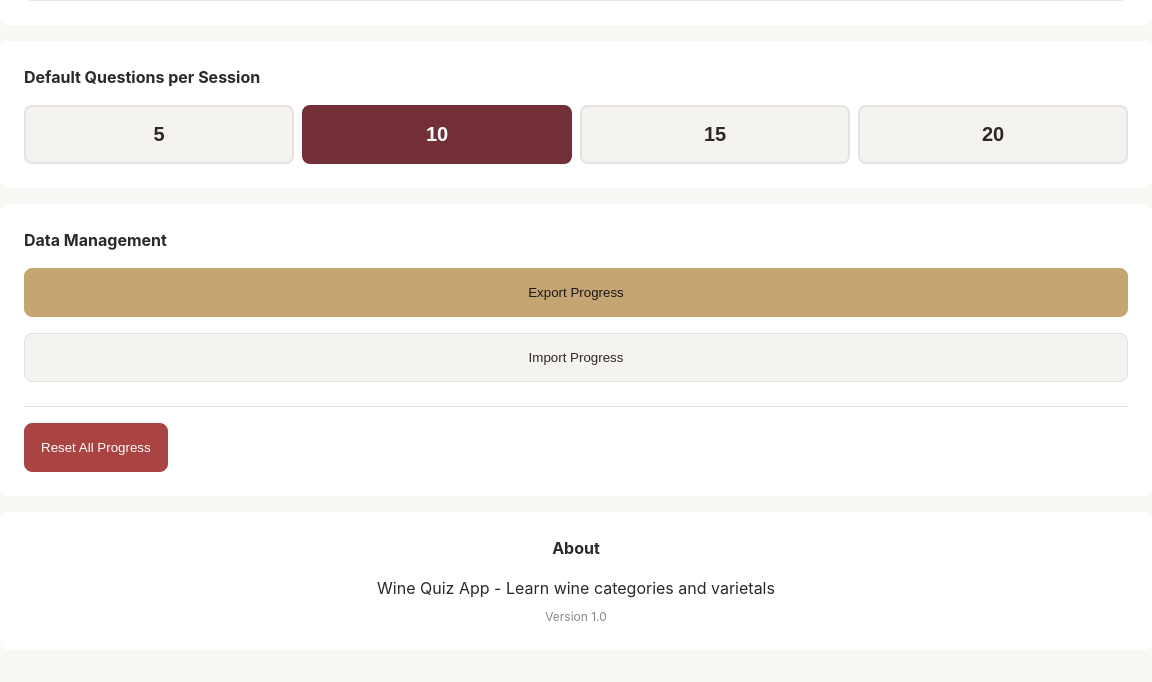
Scenario: Settings › requires confirmation before resetting progress
(page scrolled)
Click the button "Reset All Progress".
click(96, 448)  # box [24,423,168,472]
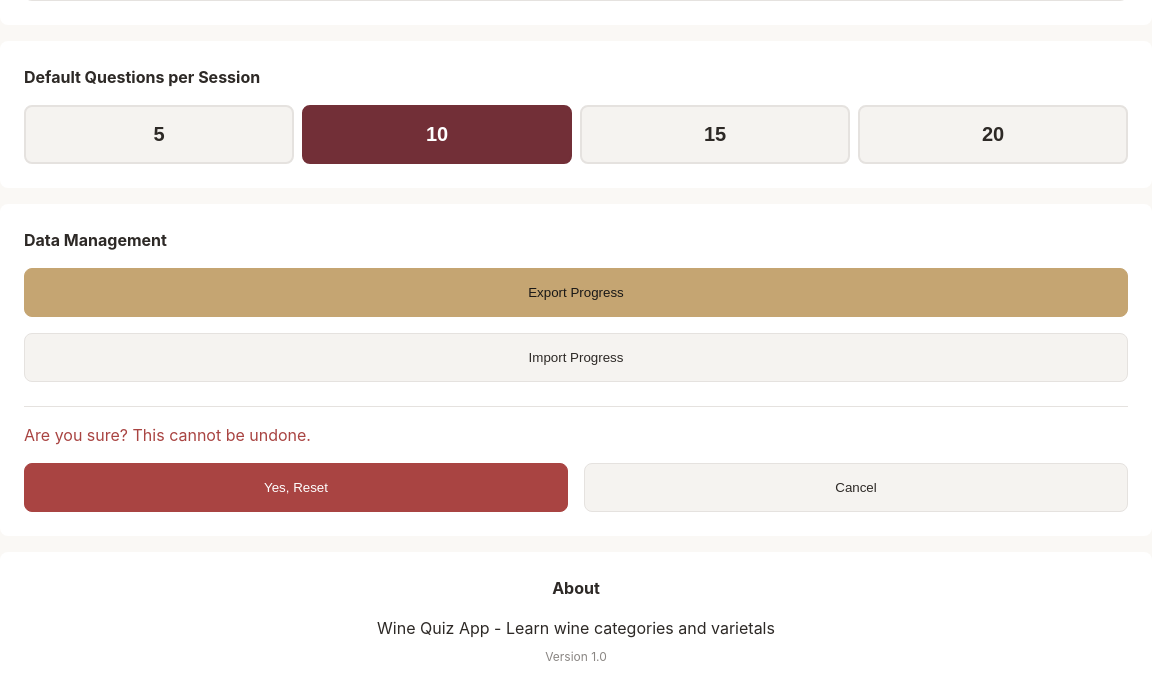
Now the text "Are you sure? This cannot be undone." is shown, box [24,425,311,445]
Click the button "Cancel".
click(856, 488)  # box [584,463,1128,512]
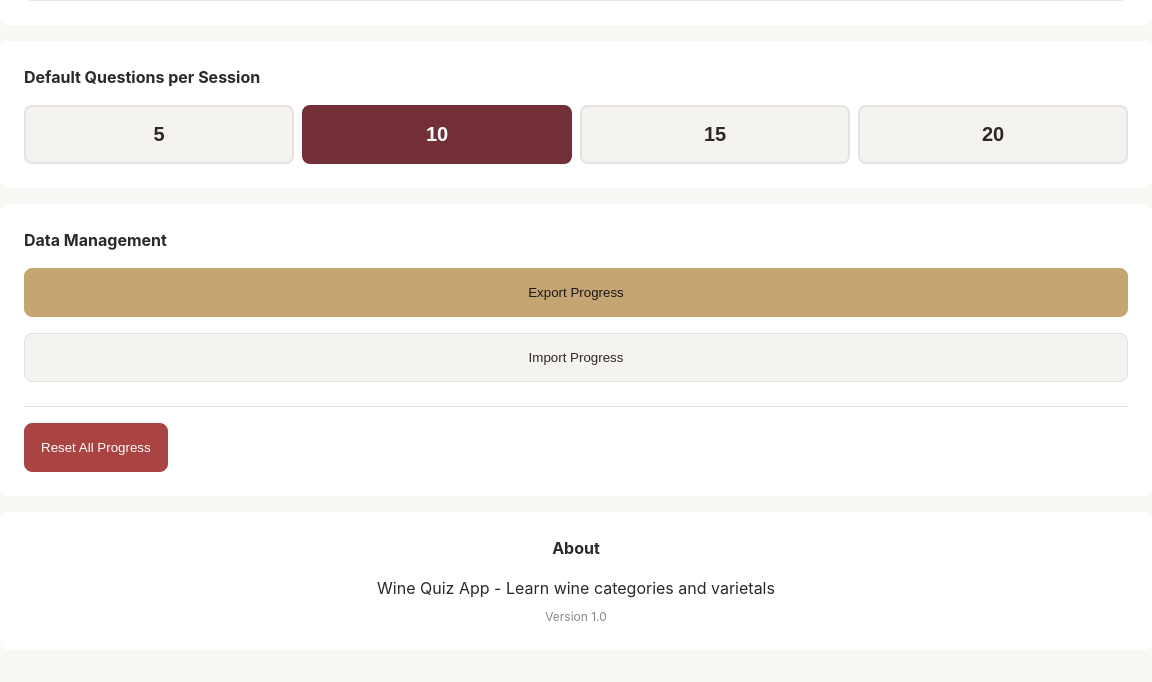
Click the button "Reset All Progress".
click(96, 448)  # box [24,423,168,472]
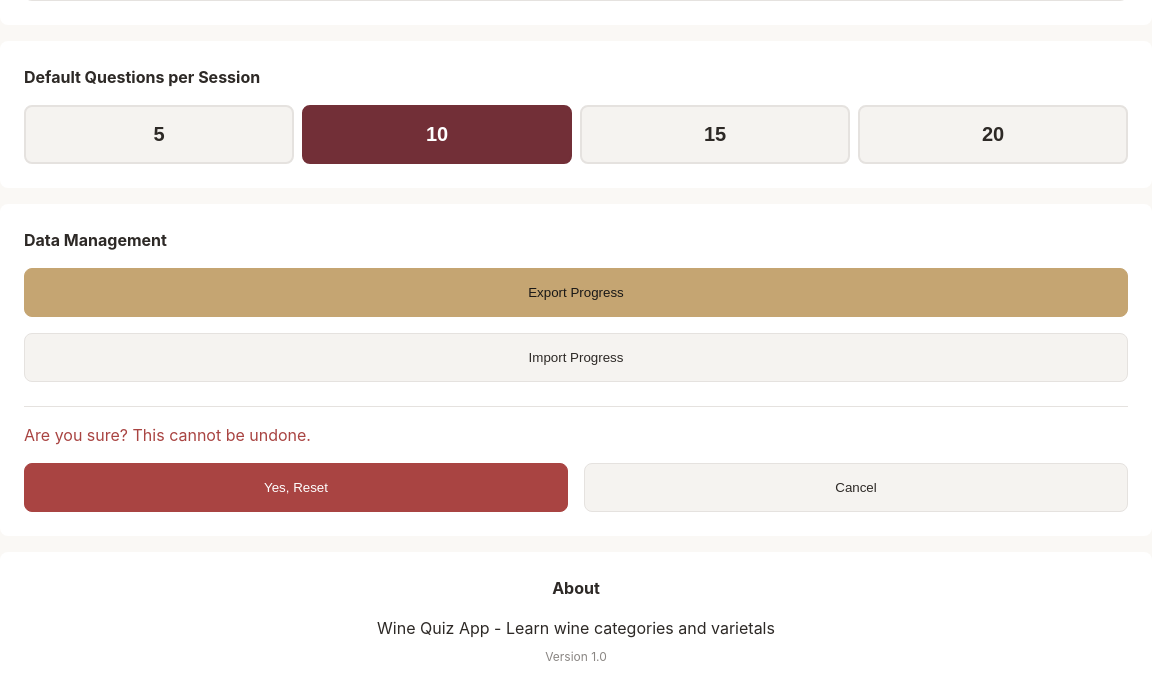
Click the button "Yes, Reset".
click(296, 488)  # box [24,463,568,512]
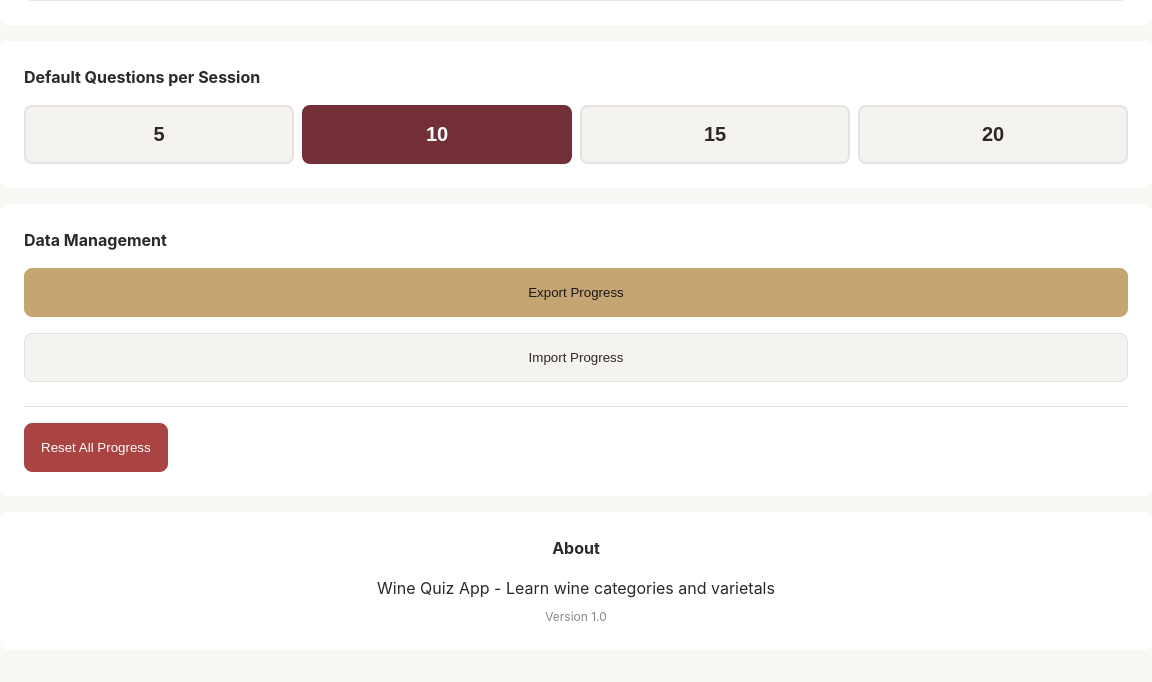
Now the text "Are you sure? This cannot be undone." is gone
